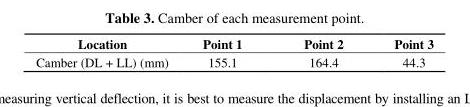table: (35, 34, 433, 70)
table column: (35, 34, 184, 70), (272, 34, 368, 70), (184, 34, 272, 70), (368, 34, 433, 70)
table column header: (35, 34, 433, 52)
table row: (35, 34, 433, 52), (35, 52, 433, 70)
